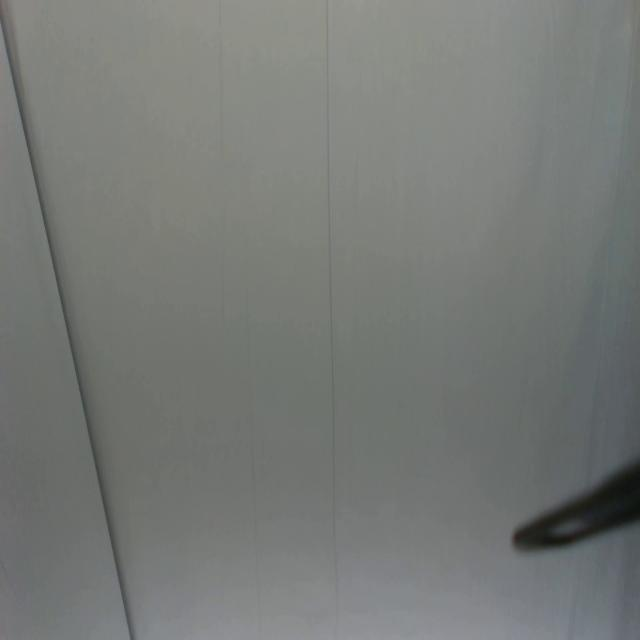crease: (0, 16, 137, 639), (324, 0, 337, 629), (243, 258, 260, 640), (212, 0, 230, 295)
